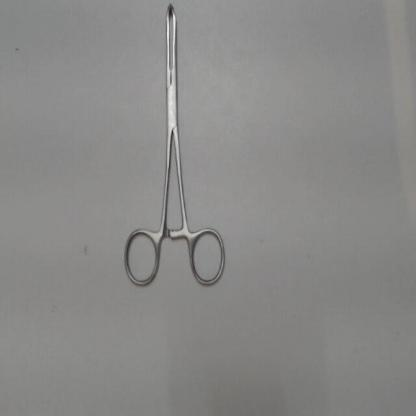Allis Tissue Forceps: (117, 4, 235, 292)
